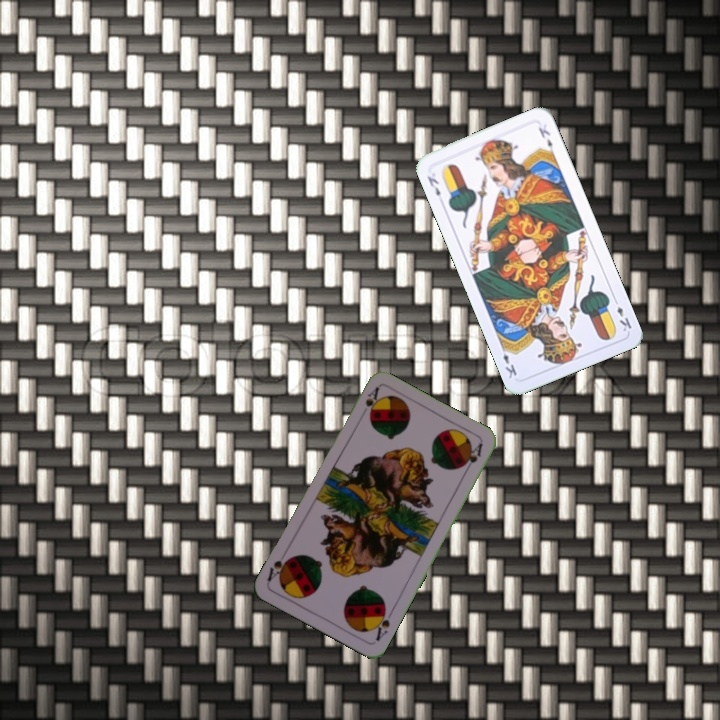EK: (609, 294, 634, 334), (423, 172, 443, 199)
SA: (369, 603, 396, 644), (361, 383, 382, 417)
